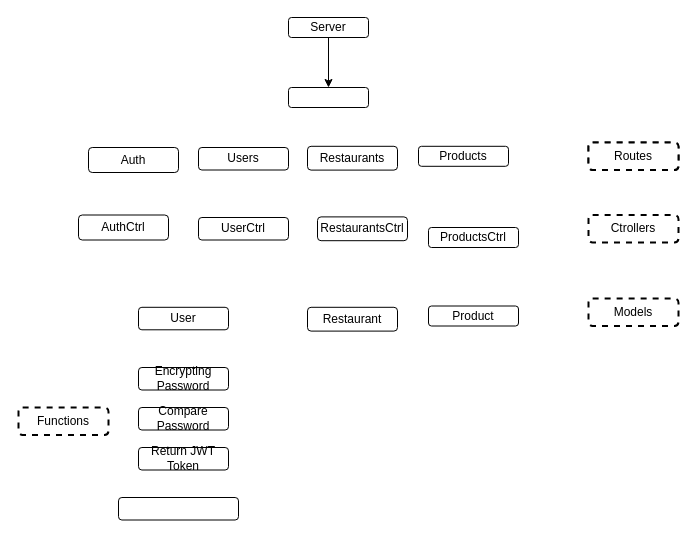
The diagram is 696 pixels wide and 541 high, and some of its shapes have lost their labels. The shapes that lost their labels are listed below. From the top down, each one's centre as x and y in pixels, then its label:
the point at 328,97: App
the point at 178,508: Generate Password Reset Token
